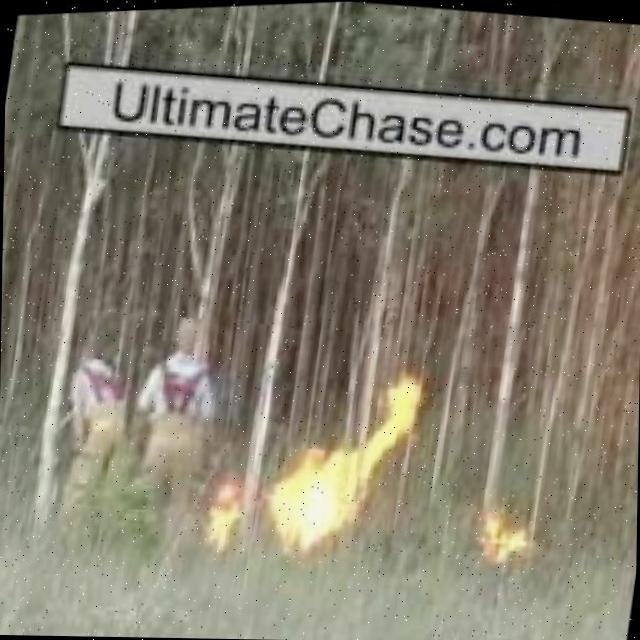fire: (267, 423, 377, 565), (362, 359, 424, 469), (201, 478, 246, 553), (486, 507, 530, 562)
